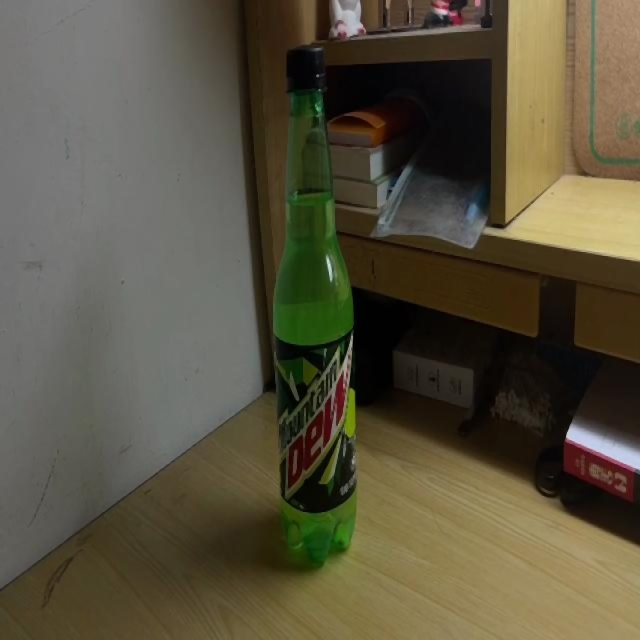Mountain-Dew: (272, 45, 357, 561)
